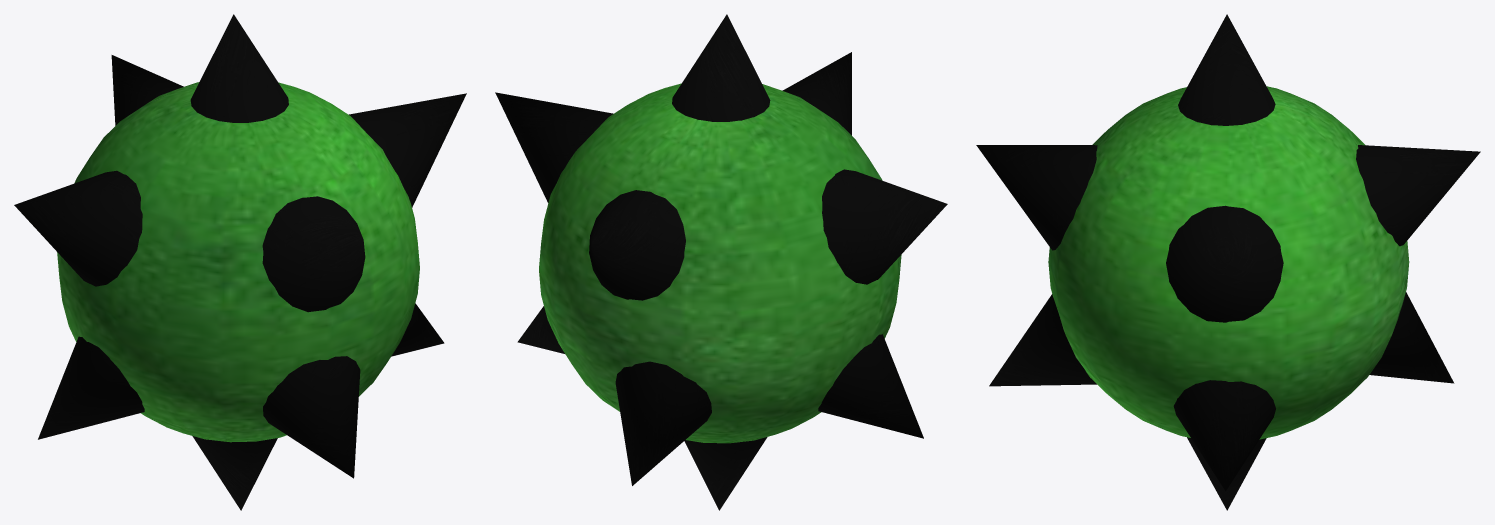
Rendered from Plantball.fbx.
3 views of the same model, side by side, from view 1: azimuth 30°, elevation 25°; view 2: azimuth 150°, elevation 25°; view 3: azimuth 270°, elevation 25° (orthographic).
Visible parts, largest first — view 1: pSphere1, pCone5, pCone2, pCone7, pCone9, pCone1, pCone3, pCone10, pCone6, pCone4; view 2: pSphere1, pCone2, pCone6, pCone8, pCone9, pCone3, pCone1, pCone10, pCone5, pCone4; view 3: pSphere1, pCone1, pCone6, pCone5, pCone4, pCone9, pCone7, pCone8, pCone10.
Boxes of the visible parts, left/top/right/bottom form: pSphere1: left=57, top=82, right=419, bottom=442; pCone5: left=262, top=196, right=365, bottom=312; pCone2: left=14, top=170, right=142, bottom=286; pCone7: left=263, top=356, right=360, bottom=478; pCone9: left=190, top=14, right=288, bottom=122; pCone1: left=349, top=93, right=466, bottom=207; pCone3: left=38, top=336, right=144, bottom=439; pCone10: left=192, top=436, right=277, bottom=510; pCone6: left=111, top=55, right=183, bottom=125; pCone4: left=391, top=303, right=444, bottom=356; pSphere1: left=539, top=83, right=901, bottom=443; pCone2: left=822, top=169, right=947, bottom=284; pCone6: left=589, top=190, right=685, bottom=300; pCone8: left=615, top=361, right=711, bottom=485; pCone9: left=672, top=14, right=770, bottom=121; pCone3: left=818, top=334, right=923, bottom=438; pCone1: left=495, top=92, right=613, bottom=202; pCone10: left=684, top=437, right=767, bottom=510; pCone5: left=782, top=52, right=851, bottom=135; pCone4: left=517, top=306, right=564, bottom=353; pSphere1: left=1048, top=86, right=1409, bottom=439; pCone1: left=1166, top=205, right=1283, bottom=322; pCone6: left=1356, top=145, right=1480, bottom=246; pCone5: left=976, top=145, right=1097, bottom=250; pCone4: left=1173, top=380, right=1275, bottom=490; pCone9: left=1178, top=14, right=1275, bottom=125; pCone7: left=989, top=294, right=1096, bottom=386; pCone8: left=1369, top=292, right=1454, bottom=383; pCone10: left=1187, top=437, right=1266, bottom=510.
Bounding box in the file's own units: 6.78 × 7.14 × 6.62.
